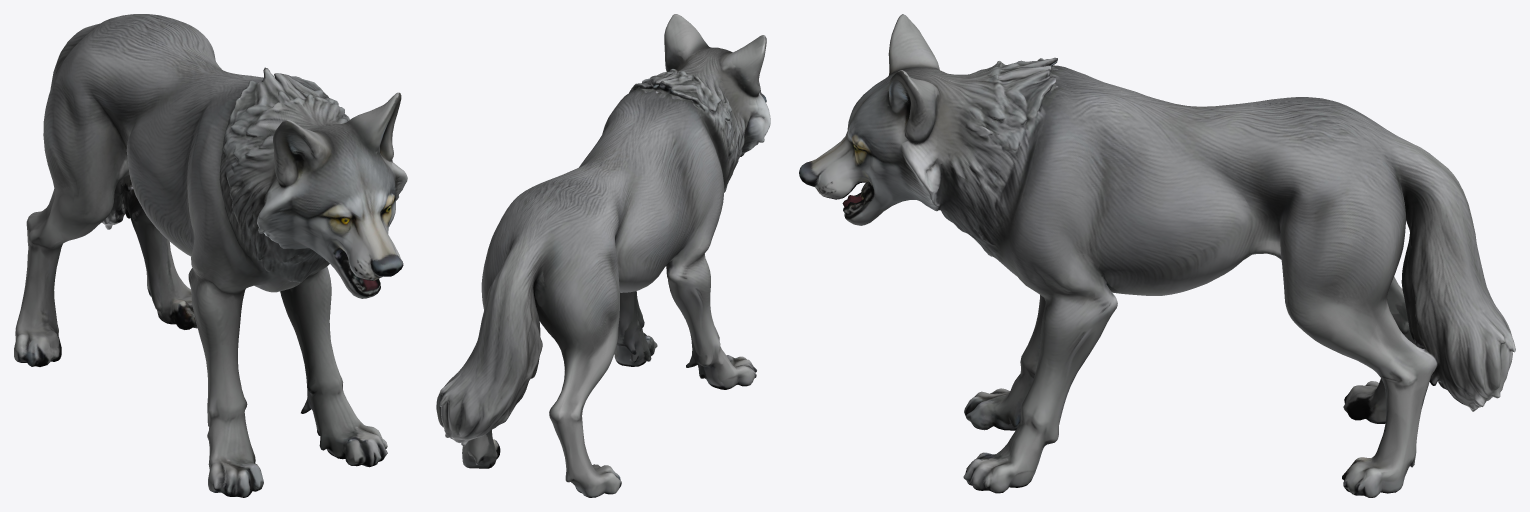
File: wolf.glb
3 renders of one model, left to right at view 1: azimuth 30°, elevation 25°; view 2: azimuth 150°, elevation 25°; view 3: azimuth 270°, elevation 25°, orthographic. The views are drawn at different scales.
Visible parts, largest first — view 1: node0; view 2: node0; view 3: node0.
Boxes of the visible parts, x1,y1,x2,y2 form: node0: [14, 14, 407, 497]; node0: [436, 14, 770, 497]; node0: [799, 14, 1515, 497].
Size of the model in its own units: 0.305 by 0.6011 by 0.9483.
1 material, 1 textured.
